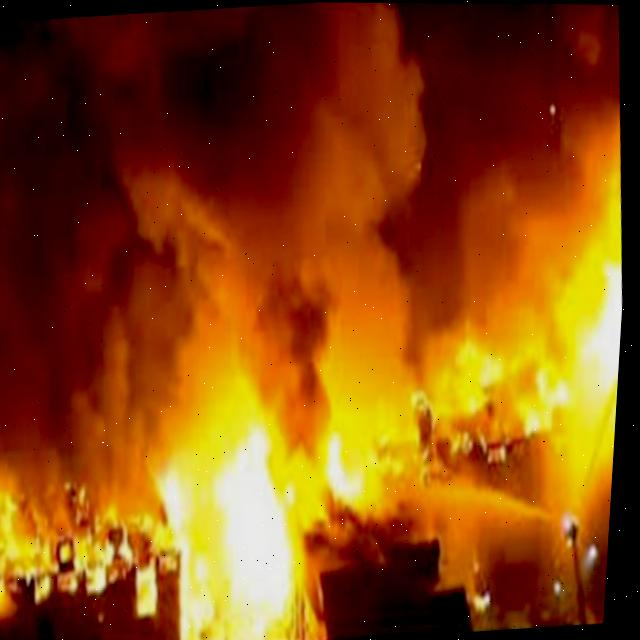fire: (0, 343, 582, 640), (437, 193, 626, 505)
smoke: (0, 2, 622, 504)
